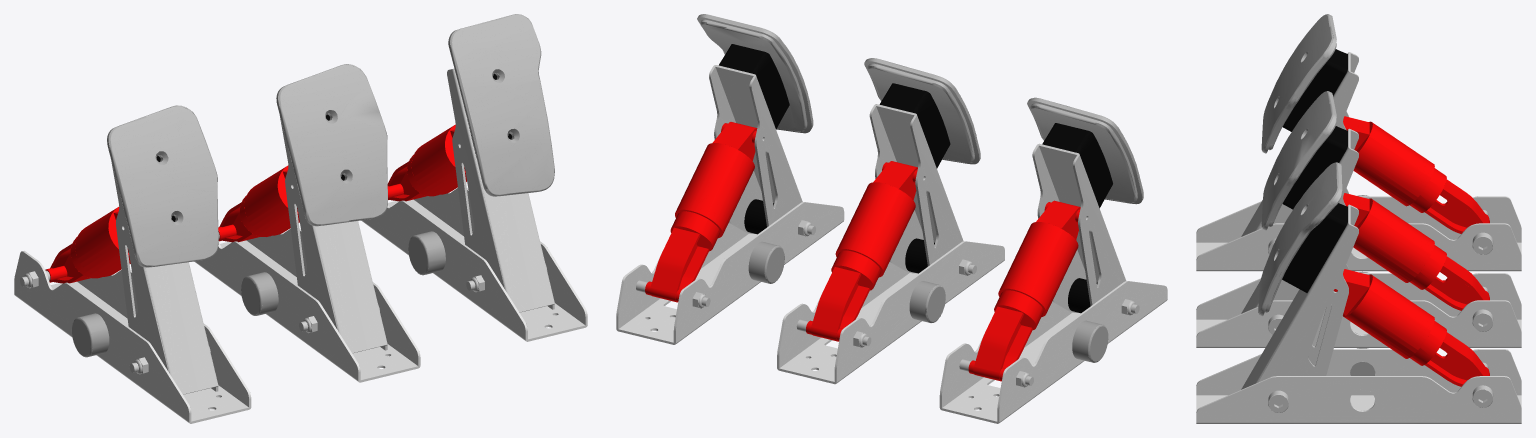
Rendered from racing-pedals.glb.
3 renders of one model, left to right at view 1: azimuth 30°, elevation 25°; view 2: azimuth 150°, elevation 25°; view 3: azimuth 270°, elevation 25°, orthographic. The views are drawn at different scales.
Parts seen in each view (by area): view 1: Object_2; view 2: Object_2; view 3: Object_2.
Part boxes in pixels (x1,y1,x2,y2): Object_2: (14,14,587,423); Object_2: (616,14,1167,423); Object_2: (1196,14,1521,423).
Bounding box in the file's own units: 0.4754 × 0.2681 × 0.332.
1 material, 1 textured.
